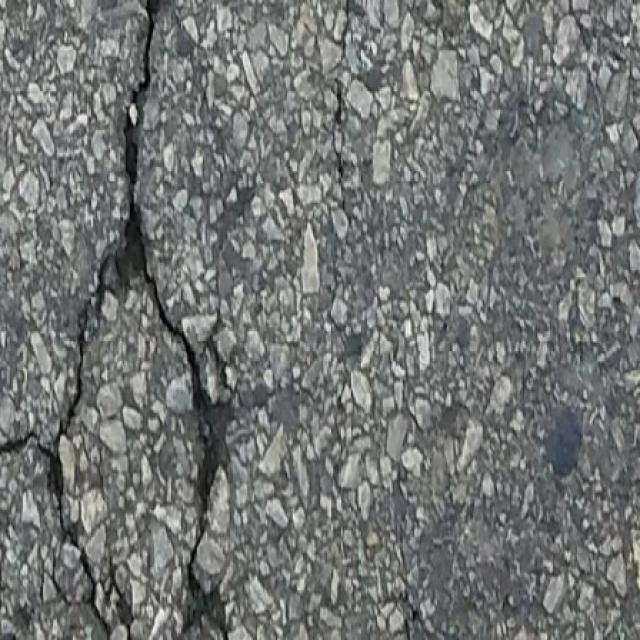Diagonal Crack: (0, 1, 241, 640)
